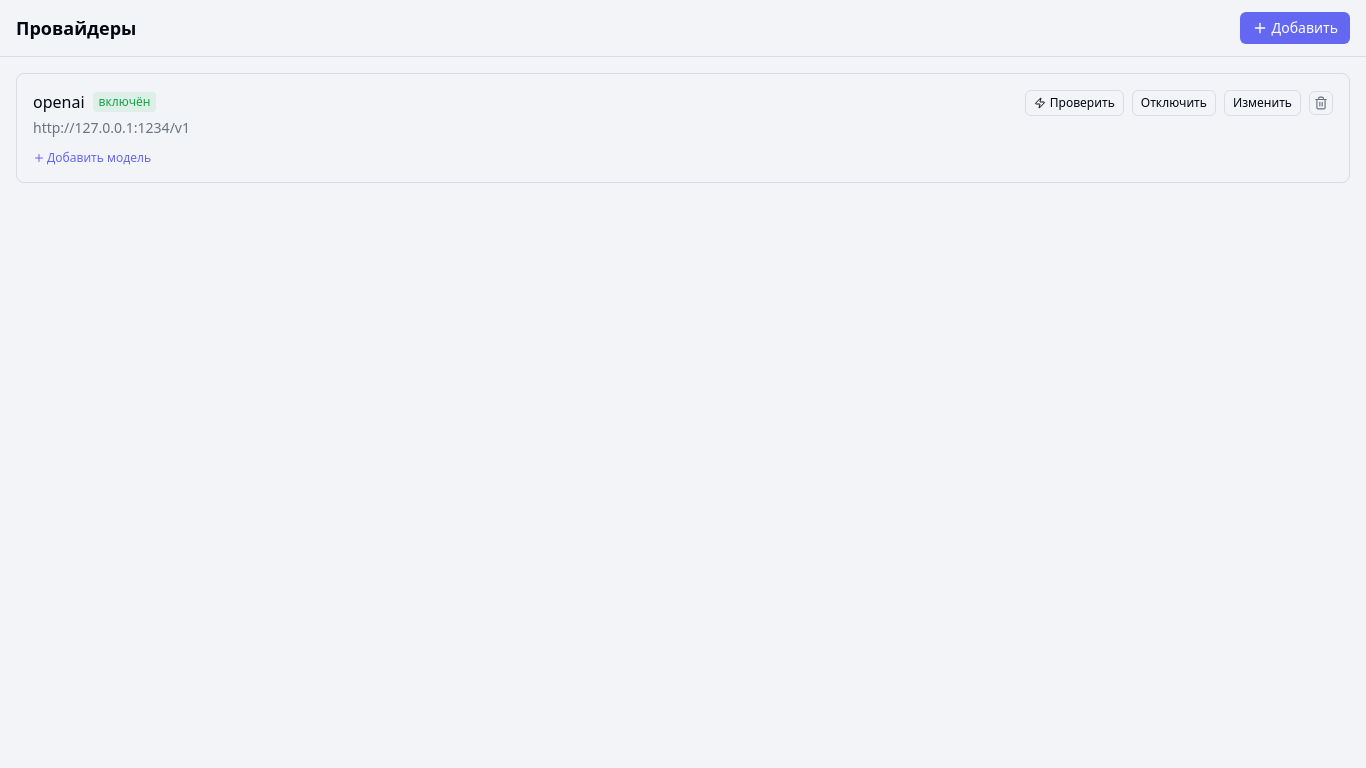
Scenario: ProvidersPage › opens model create form when Add Model clicked
What coordinates should you click on to do the following:
click the button "Добавить модель"
I would click on:
 (92, 158)
Its box is [33, 150, 151, 166].
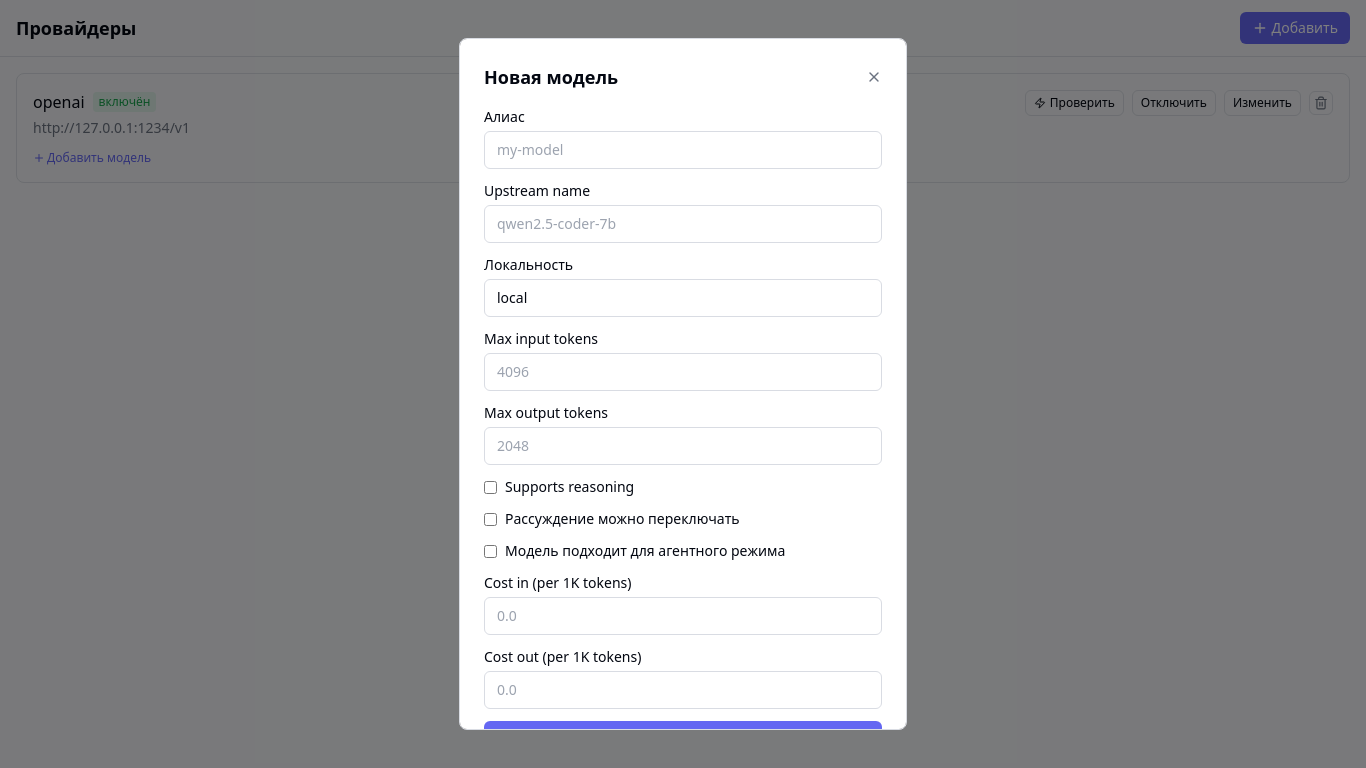
Result: the heading "Новая модель" is shown at [484, 63, 618, 91]
Result: the field with placeholder "my-model" is shown at [484, 131, 882, 169]
